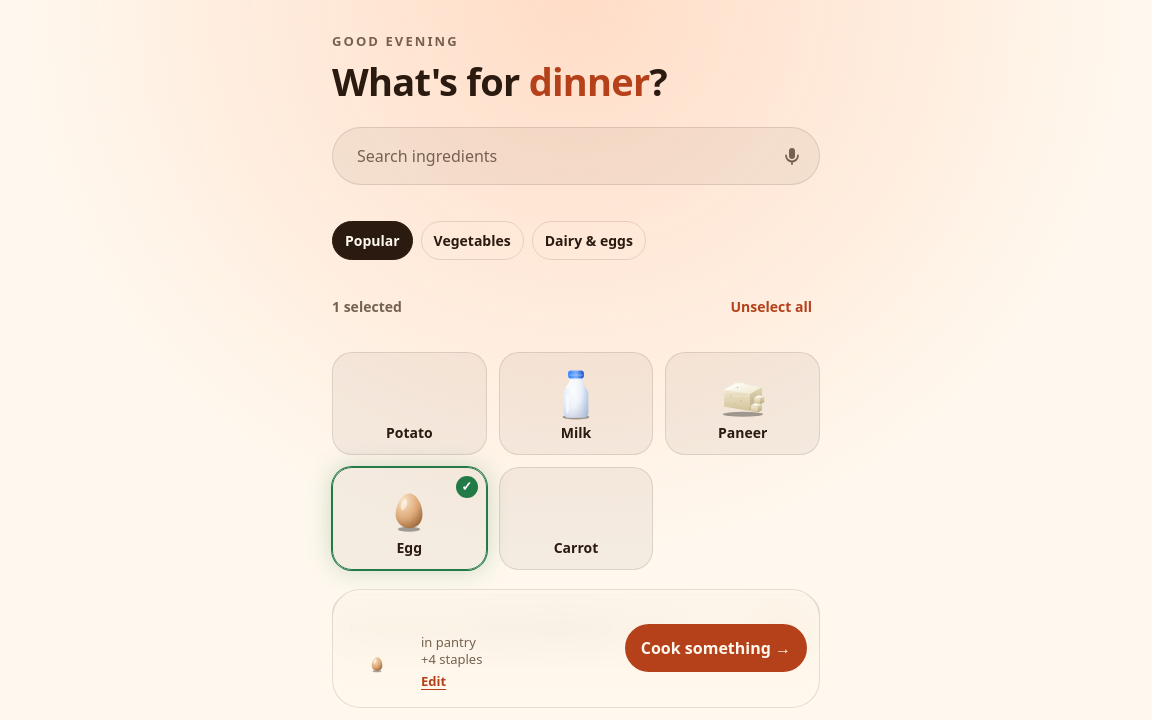
stopping mid-sentence adds what was on screen
The image size is (1152, 720).
Expected: the button "Potato" is shown, [332, 352, 487, 455]
Click the button named "Say what you have": (792, 156) [772, 136, 812, 176]
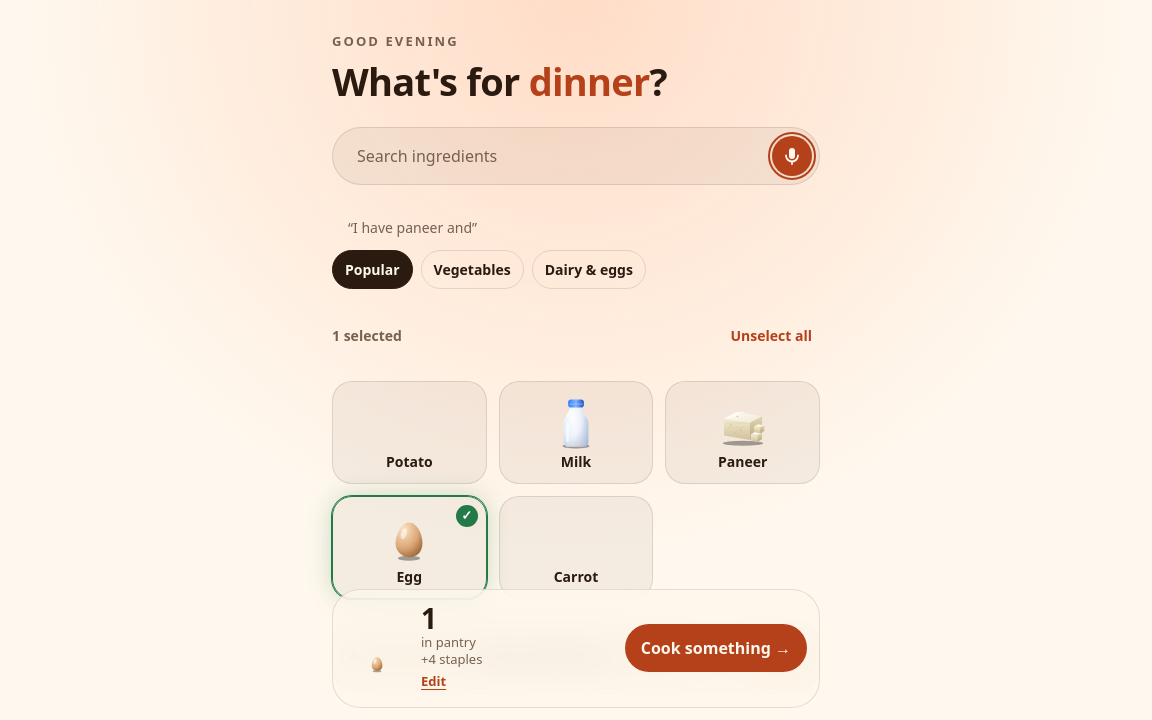
Click the button named "Stop listening": (792, 156) [772, 136, 812, 176]
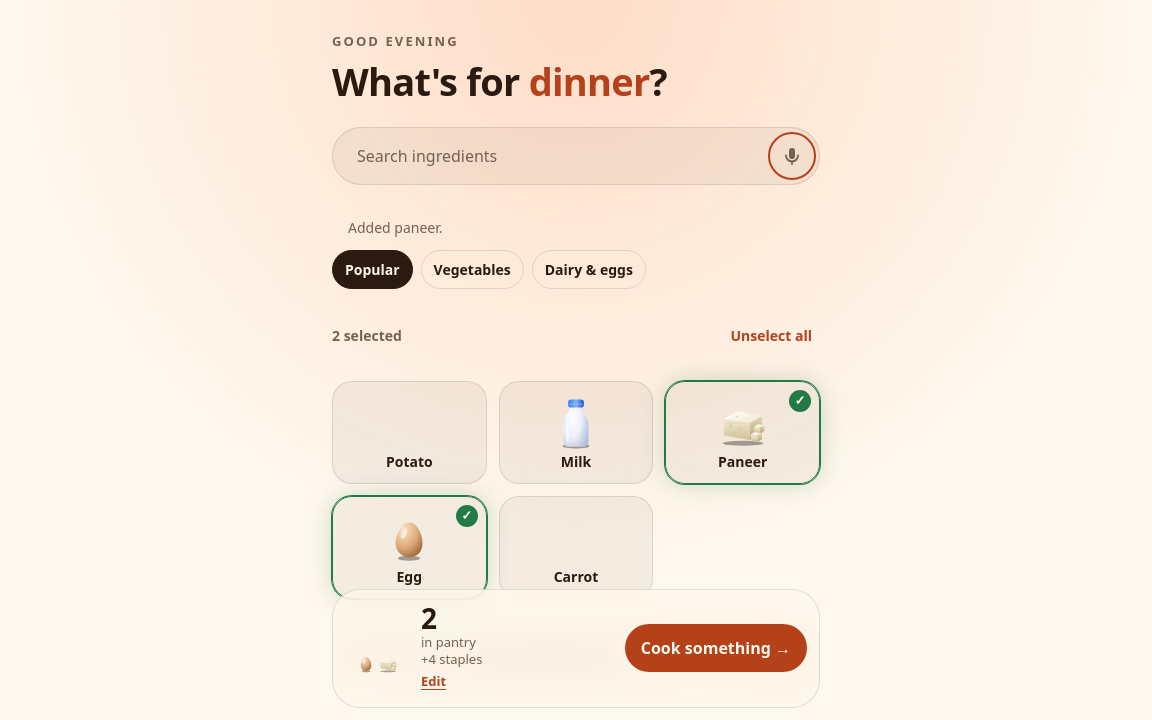
Now the text "Added paneer." is shown, box [348, 218, 442, 237]
